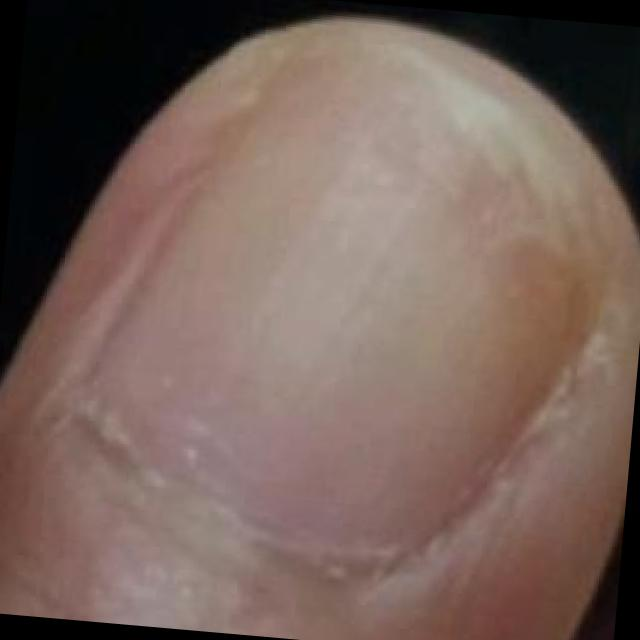Nail: (80, 43, 599, 568)
